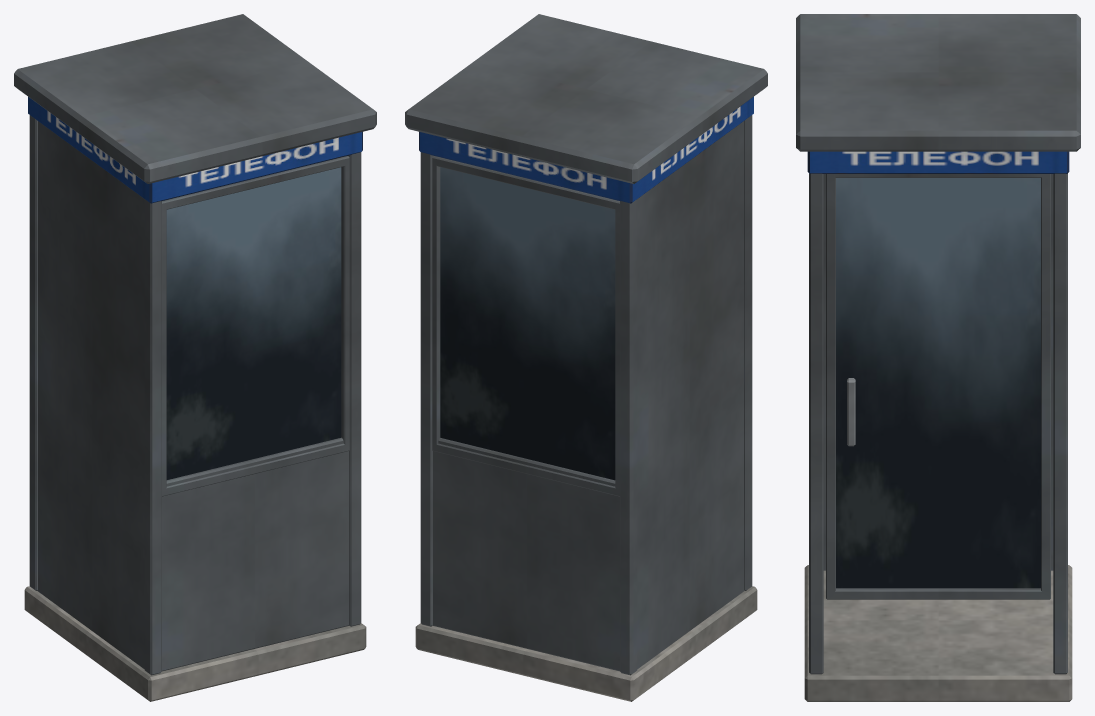
The model's file is pr_booth.glb.
3 views of the same model, side by side, from view 1: azimuth 30°, elevation 25°; view 2: azimuth 150°, elevation 25°; view 3: azimuth 270°, elevation 25° (orthographic). The views are drawn at different scales.
Parts seen in each view (by area): view 1: pr_booth; view 2: pr_booth; view 3: pr_booth.
Part boxes in pixels (<box>): pr_booth: <box>14,14,376,701</box>; pr_booth: <box>405,14,767,701</box>; pr_booth: <box>796,14,1080,701</box>.
Size of the model in its own units: 0.98 by 2.18 by 0.98.
1 material, 1 textured.
